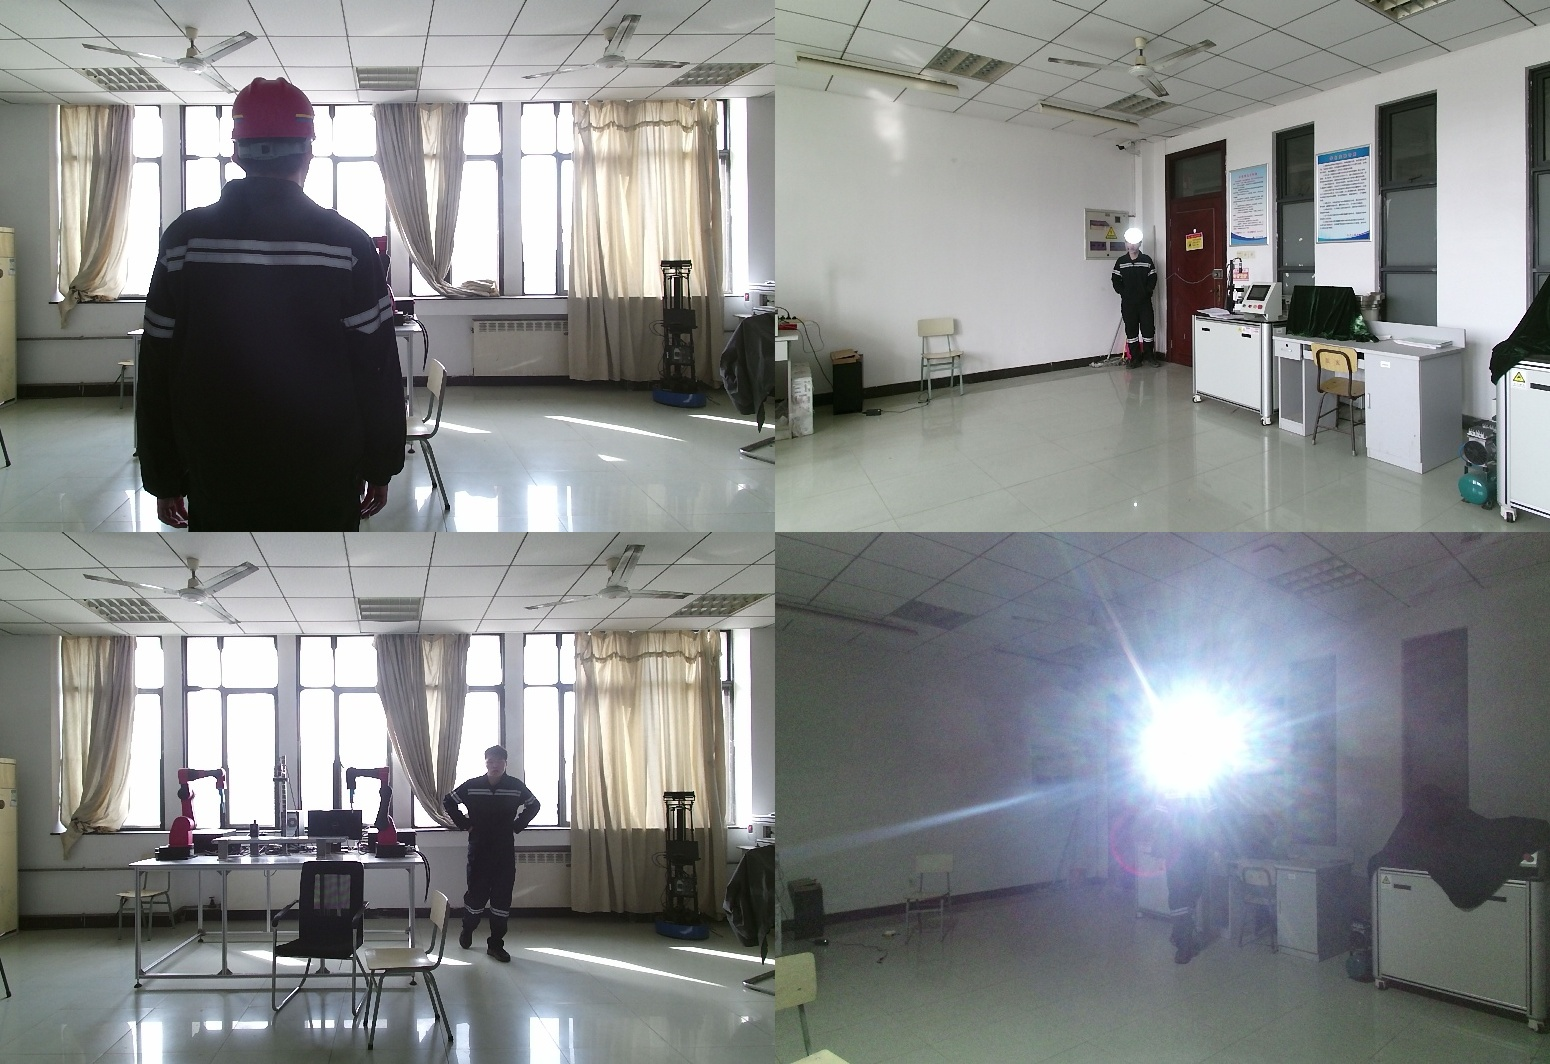person: (136, 79, 409, 532), (446, 750, 540, 967), (1147, 745, 1227, 969), (1113, 232, 1162, 369)
